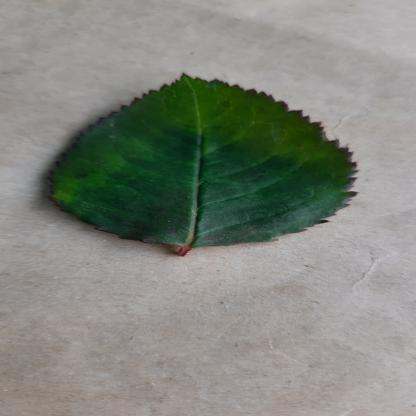downy-mildew: (48, 70, 366, 250)
